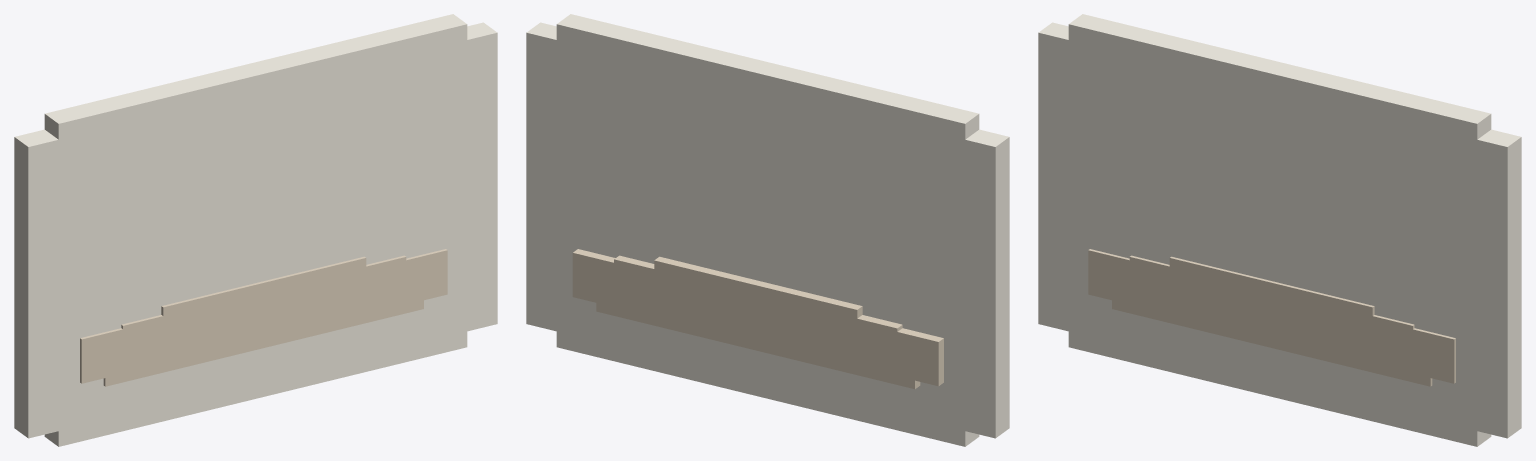
File: MOD_BAKERY_DISPLAY_WINDOW_001_LOD_CLOSE.glb
3 renders of one model, left to right at view 1: azimuth 30°, elevation 25°; view 2: azimuth 150°, elevation 25°; view 3: azimuth 330°, elevation 25°, orthographic.
Visible parts, largest first — view 1: MOD_BAKERY_DISPLAY_WINDOW_001_DOUBLE_PANE_BAKERY_DISPLAY_WIN, MOD_BAKERY_DISPLAY_WINDOW_001_CORNER_DISPLAY_FRONTAGE_CLOSE_ (×2), MOD_BAKERY_DISPLAY_WINDOW_001_DOUBLE_PANE_BAKERY_DISPLAY_WI, MOD_BAKERY_DISPLAY_WINDOW_001_NARROW_PASTRY_DISPLAY_WINDOW_, MOD_BAKERY_DISPLAY_WINDOW_001_SINGLE_LARGE_DISPLAY_WINDOW_CL, MOD_BAKERY_DISPLAY_WINDOW_001_SINGLE_LARGE_DISPLAY_WINDOW_C; view 2: MOD_BAKERY_DISPLAY_WINDOW_001_CORNER_DISPLAY_FRONTAGE_CLOSE_ (×2), MOD_BAKERY_DISPLAY_WINDOW_001_DOUBLE_PANE_BAKERY_DISPLAY_WIN, MOD_BAKERY_DISPLAY_WINDOW_001_NARROW_PASTRY_DISPLAY_WINDOW_, MOD_BAKERY_DISPLAY_WINDOW_001_SINGLE_LARGE_DISPLAY_WINDOW_C, MOD_BAKERY_DISPLAY_WINDOW_001_DOUBLE_PANE_BAKERY_DISPLAY_WI, MOD_BAKERY_DISPLAY_WINDOW_001_SINGLE_LARGE_DISPLAY_WINDOW_CL, MOD_BAKERY_DISPLAY_WINDOW_001_NARROW_PASTRY_DISPLAY_WINDOW_C; view 3: MOD_BAKERY_DISPLAY_WINDOW_001_DOUBLE_PANE_BAKERY_DISPLAY_WIN, MOD_BAKERY_DISPLAY_WINDOW_001_CORNER_DISPLAY_FRONTAGE_CLOSE_ (×2), MOD_BAKERY_DISPLAY_WINDOW_001_SINGLE_LARGE_DISPLAY_WINDOW_C, MOD_BAKERY_DISPLAY_WINDOW_001_NARROW_PASTRY_DISPLAY_WINDOW_, MOD_BAKERY_DISPLAY_WINDOW_001_DOUBLE_PANE_BAKERY_DISPLAY_WI, MOD_BAKERY_DISPLAY_WINDOW_001_SINGLE_LARGE_DISPLAY_WINDOW_CL.
Boxes of the visible parts, <box> form: MOD_BAKERY_DISPLAY_WINDOW_001_DOUBLE_PANE_BAKERY_DISPLAY_WIN: <box>14,22,497,438</box>; MOD_BAKERY_DISPLAY_WINDOW_001_CORNER_DISPLAY_FRONTAGE_CLOSE_ (×2): <box>44,14,467,446</box>; MOD_BAKERY_DISPLAY_WINDOW_001_DOUBLE_PANE_BAKERY_DISPLAY_WI: <box>80,249,447,383</box>; MOD_BAKERY_DISPLAY_WINDOW_001_NARROW_PASTRY_DISPLAY_WINDOW_: <box>161,256,366,341</box>; MOD_BAKERY_DISPLAY_WINDOW_001_SINGLE_LARGE_DISPLAY_WINDOW_CL: <box>81,97,436,337</box>; MOD_BAKERY_DISPLAY_WINDOW_001_SINGLE_LARGE_DISPLAY_WINDOW_C: <box>121,255,406,329</box>; MOD_BAKERY_DISPLAY_WINDOW_001_CORNER_DISPLAY_FRONTAGE_CLOSE_ (×2): <box>556,14,979,446</box>; MOD_BAKERY_DISPLAY_WINDOW_001_DOUBLE_PANE_BAKERY_DISPLAY_WIN: <box>526,22,1009,438</box>; MOD_BAKERY_DISPLAY_WINDOW_001_NARROW_PASTRY_DISPLAY_WINDOW_: <box>654,256,862,353</box>; MOD_BAKERY_DISPLAY_WINDOW_001_SINGLE_LARGE_DISPLAY_WINDOW_C: <box>614,255,902,372</box>; MOD_BAKERY_DISPLAY_WINDOW_001_DOUBLE_PANE_BAKERY_DISPLAY_WI: <box>572,249,943,386</box>; MOD_BAKERY_DISPLAY_WINDOW_001_SINGLE_LARGE_DISPLAY_WINDOW_CL: <box>580,53,940,337</box>; MOD_BAKERY_DISPLAY_WINDOW_001_NARROW_PASTRY_DISPLAY_WINDOW_C: <box>631,81,890,286</box>; MOD_BAKERY_DISPLAY_WINDOW_001_DOUBLE_PANE_BAKERY_DISPLAY_WIN: <box>1038,22,1521,438</box>; MOD_BAKERY_DISPLAY_WINDOW_001_CORNER_DISPLAY_FRONTAGE_CLOSE_ (×2): <box>1068,14,1491,446</box>; MOD_BAKERY_DISPLAY_WINDOW_001_SINGLE_LARGE_DISPLAY_WINDOW_C: <box>1129,255,1414,369</box>; MOD_BAKERY_DISPLAY_WINDOW_001_NARROW_PASTRY_DISPLAY_WINDOW_: <box>1169,256,1374,351</box>; MOD_BAKERY_DISPLAY_WINDOW_001_DOUBLE_PANE_BAKERY_DISPLAY_WI: <box>1088,249,1455,383</box>; MOD_BAKERY_DISPLAY_WINDOW_001_SINGLE_LARGE_DISPLAY_WINDOW_CL: <box>1096,61,1454,332</box>.
Bounding box in the file's own units: 3.1 × 2.04 × 0.24.
